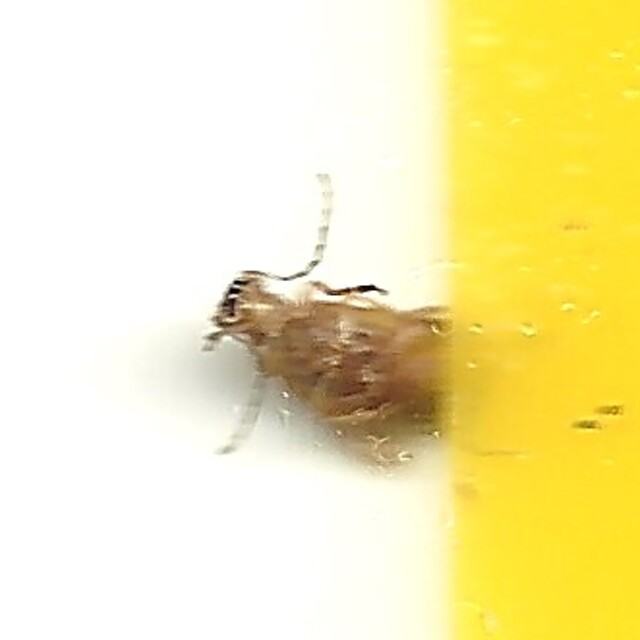Coleoptera: (193, 164, 447, 476)
